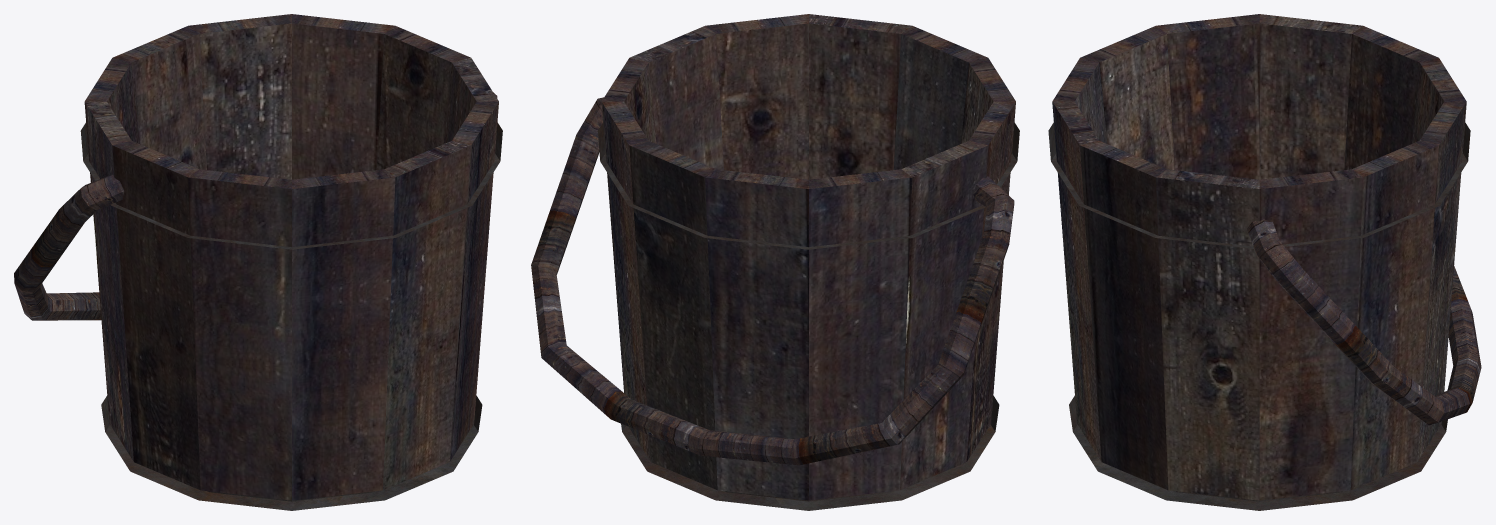
Rendered from bucket_standing.fbx.
3 renders of one model, left to right at view 1: azimuth 30°, elevation 25°; view 2: azimuth 150°, elevation 25°; view 3: azimuth 270°, elevation 25°, orthographic.
Parts seen in each view (by area): view 1: Bucket1_3; view 2: Bucket1_3; view 3: Bucket1_3.
Part boxes in pixels (x1,y1,x2,y2): Bucket1_3: (14, 14, 502, 510); Bucket1_3: (531, 14, 1019, 510); Bucket1_3: (1048, 14, 1481, 510).
Size of the model in its own units: 0.4146 by 0.3028 by 0.3596.
